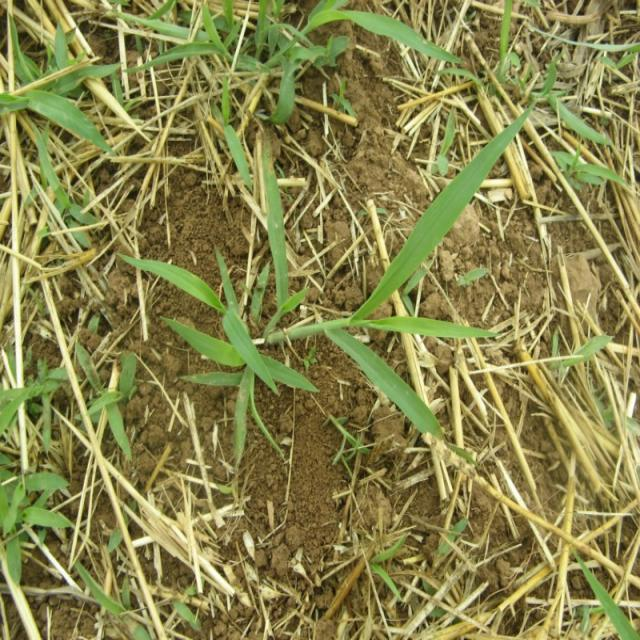bg: (110, 131, 526, 446)
